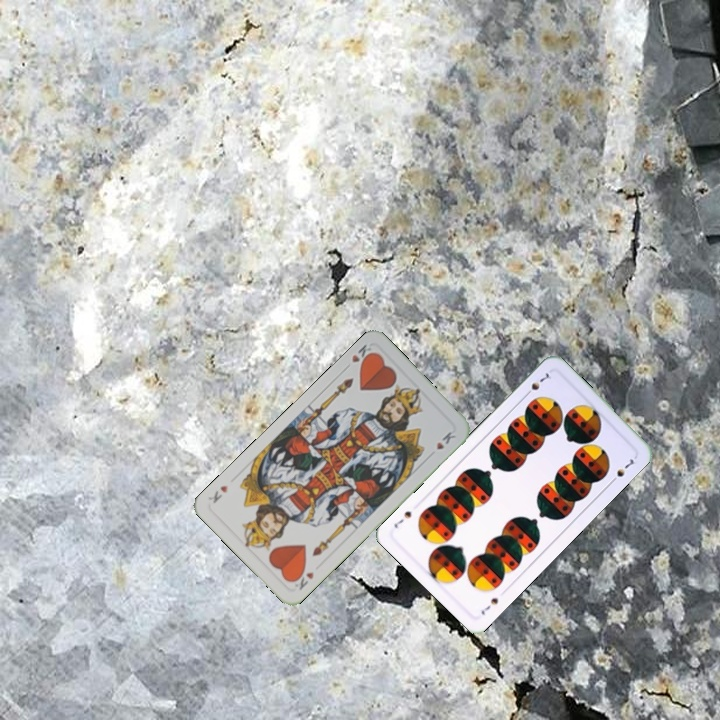HK: (340, 340, 377, 373), (287, 565, 317, 593)
S7: (521, 368, 554, 399), (477, 594, 501, 618)
